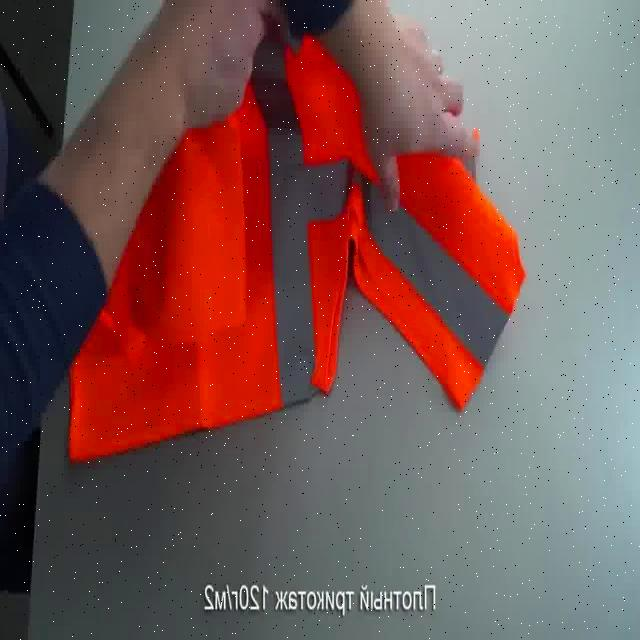Vest: (87, 6, 547, 394)
